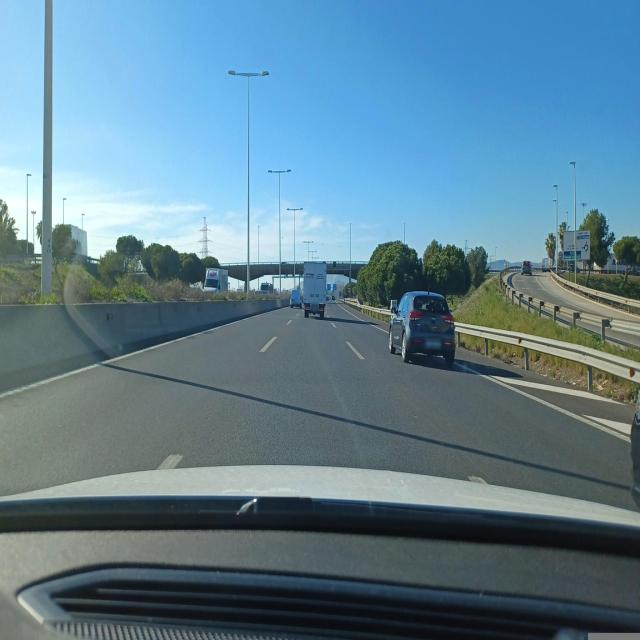car: (388, 290, 456, 366), (302, 261, 327, 319), (290, 288, 302, 308)
